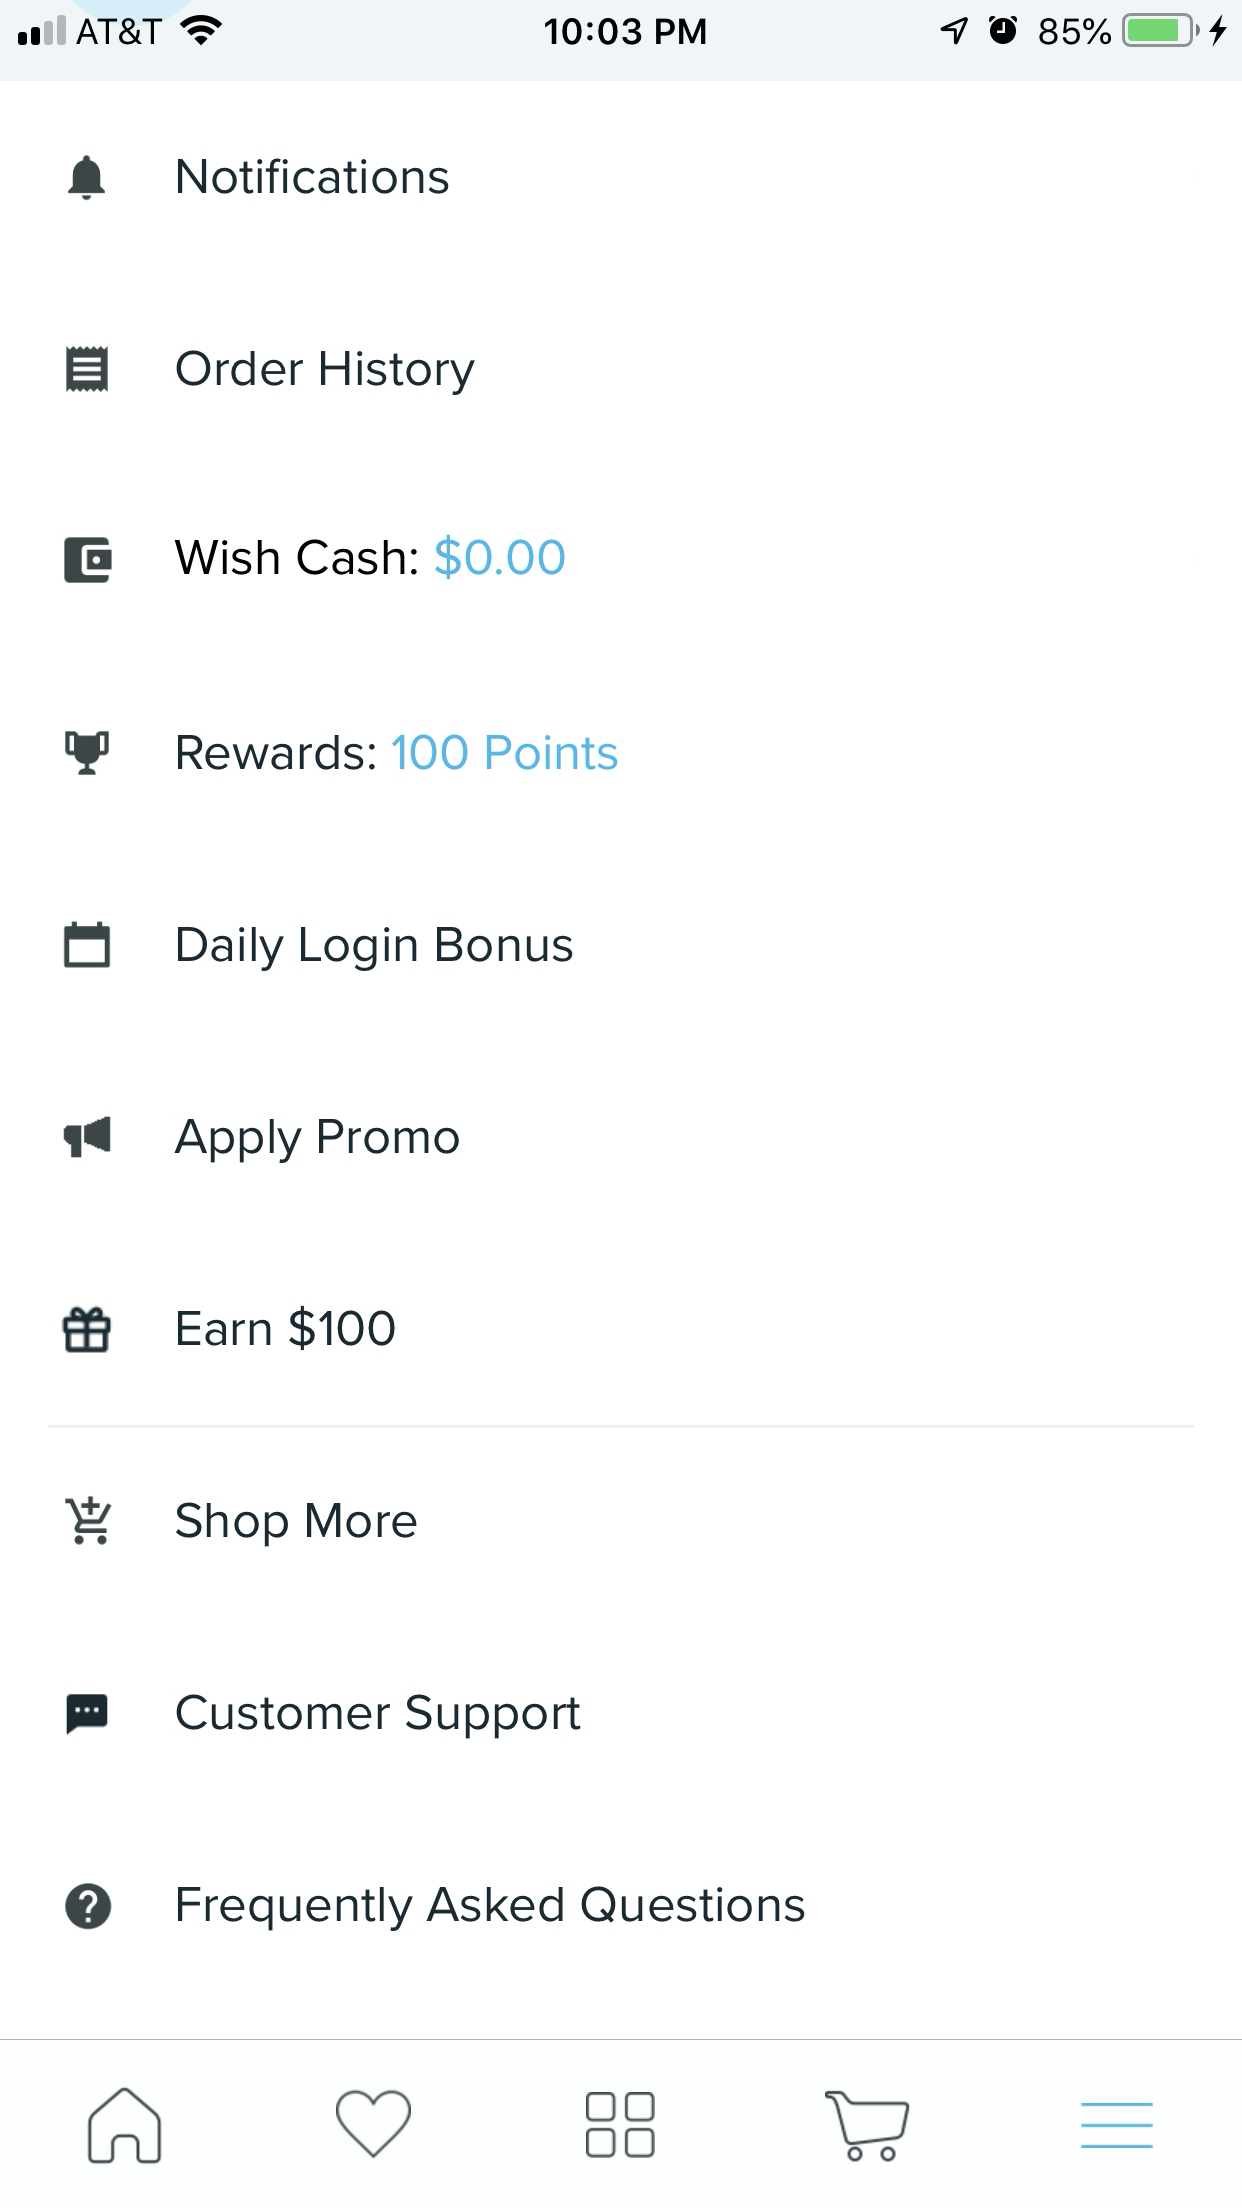Icon: (823, 2090, 910, 2163), (88, 2087, 162, 2164), (337, 2090, 412, 2159), (585, 2093, 657, 2159), (1081, 2103, 1154, 2147), (65, 1495, 114, 1545), (65, 1882, 114, 1930), (64, 921, 112, 969), (65, 535, 114, 584), (64, 1306, 114, 1353), (67, 346, 111, 394), (68, 155, 108, 202), (67, 1694, 109, 1736)
Image: (65, 729, 111, 776), (64, 1116, 112, 1159)
Text: (177, 1887, 805, 1932), (176, 1692, 581, 1739), (179, 927, 575, 972), (176, 350, 476, 397), (174, 1119, 459, 1165), (176, 1501, 419, 1548), (179, 158, 450, 196), (177, 1306, 396, 1351), (174, 538, 419, 576), (391, 732, 619, 770), (177, 734, 378, 770), (435, 535, 566, 581)
UpperTaskBar: (2, 2, 1242, 47)
